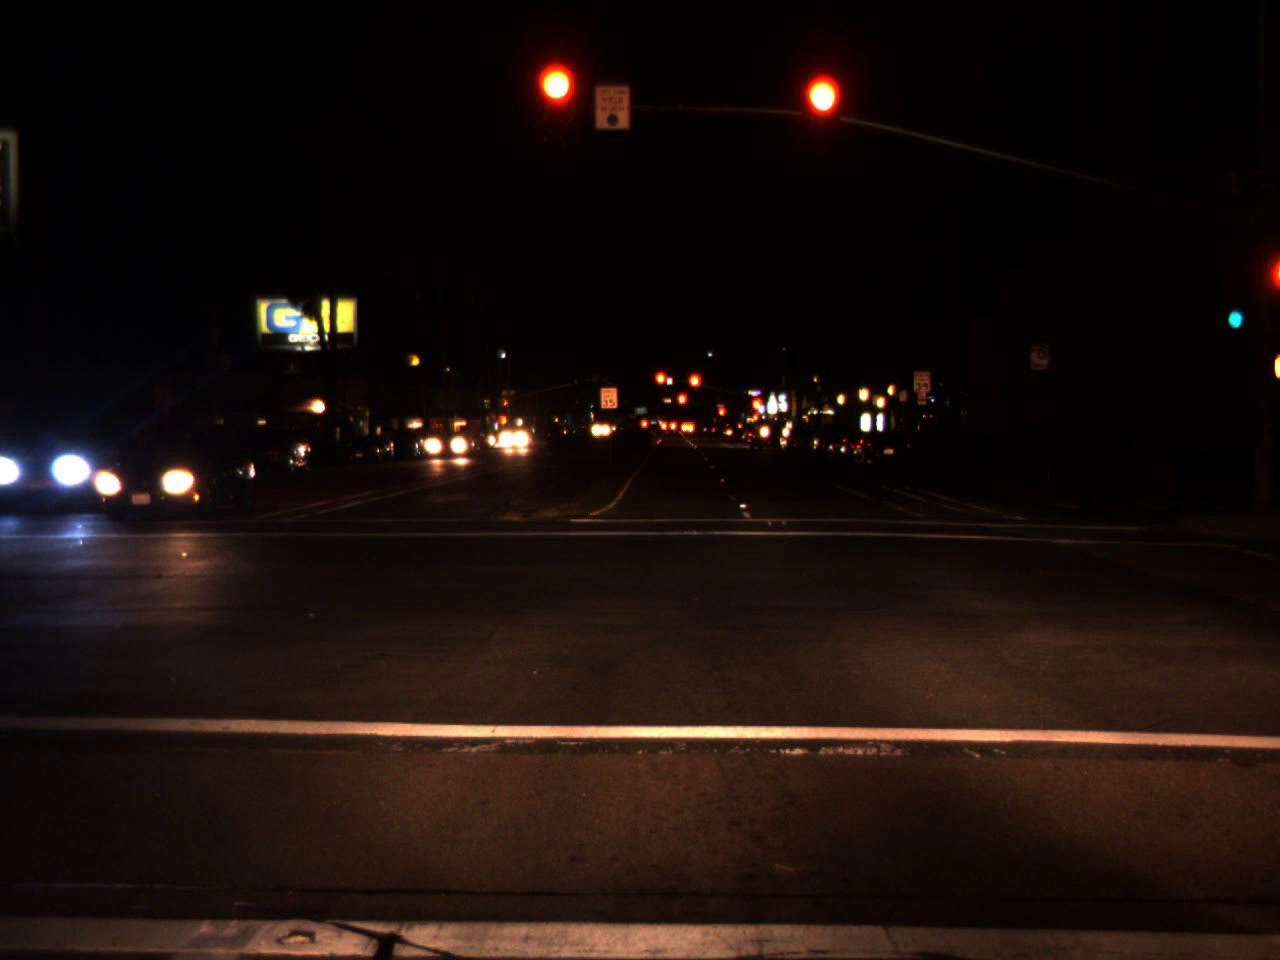stop: (538, 65, 578, 143), (802, 75, 839, 153), (653, 369, 671, 401), (686, 371, 702, 403), (675, 391, 688, 418), (749, 396, 764, 414), (717, 406, 726, 424), (503, 398, 509, 414)
